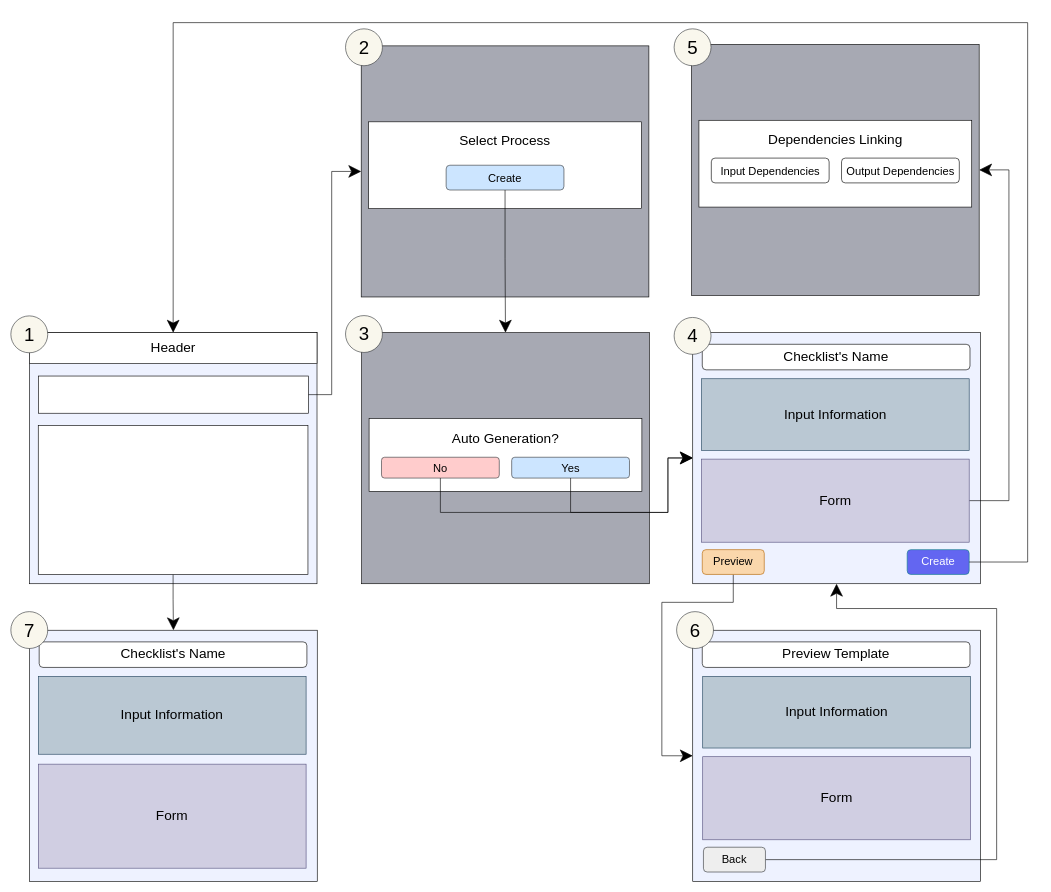
This 1051x892 diagram has some shape labels left out. The centre of each missing label's shape, as x and y in pixels:
"Saved Checklist Templates" belongs at [173,499].
"Template Creation" belongs at [173,394].
